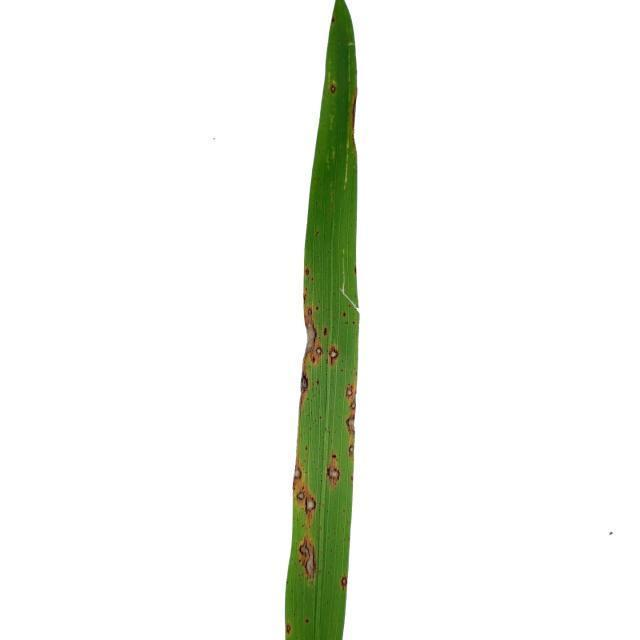Leaf_Blast: (301, 530, 322, 584), (301, 304, 320, 359), (295, 488, 321, 514), (327, 459, 338, 489), (327, 347, 341, 370), (346, 412, 357, 441), (326, 79, 341, 98), (314, 351, 325, 356)
